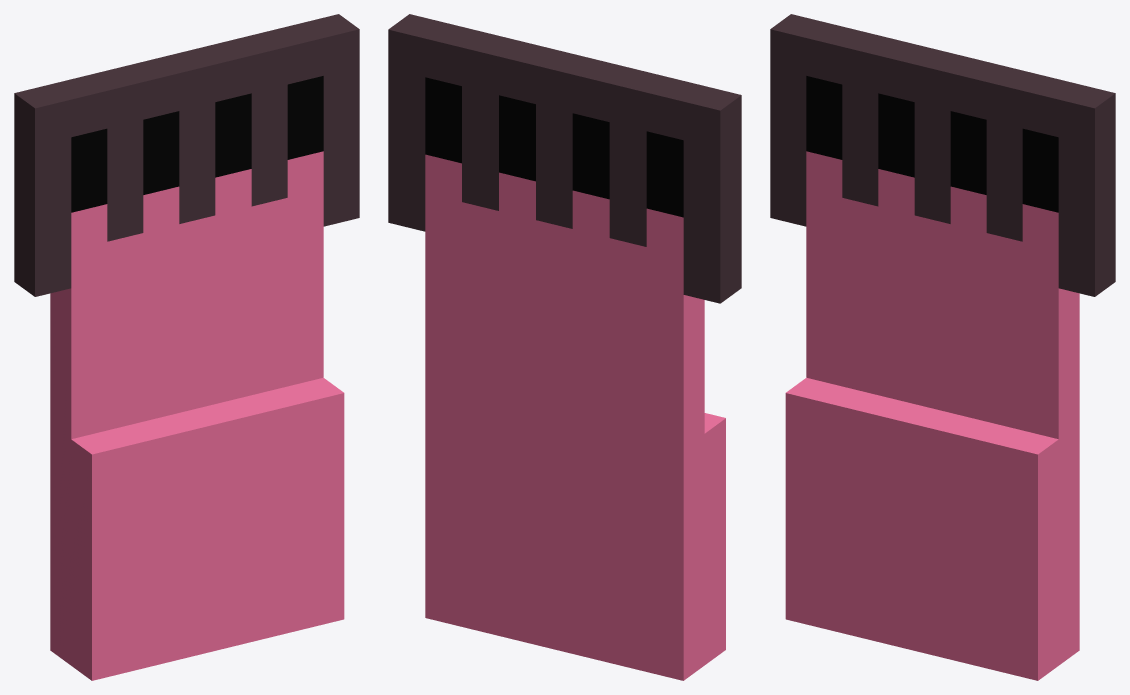
File: wall_grate_b_passing_juice.obj
The picture shows the model from 3 angles, left to right: view 1: azimuth 30°, elevation 25°; view 2: azimuth 150°, elevation 25°; view 3: azimuth 330°, elevation 25°; orthographic projection. The views are drawn at different scales.
Bounding box in the file's own units: 0.9 × 1.5 × 0.2.
1 material, 1 textured.
